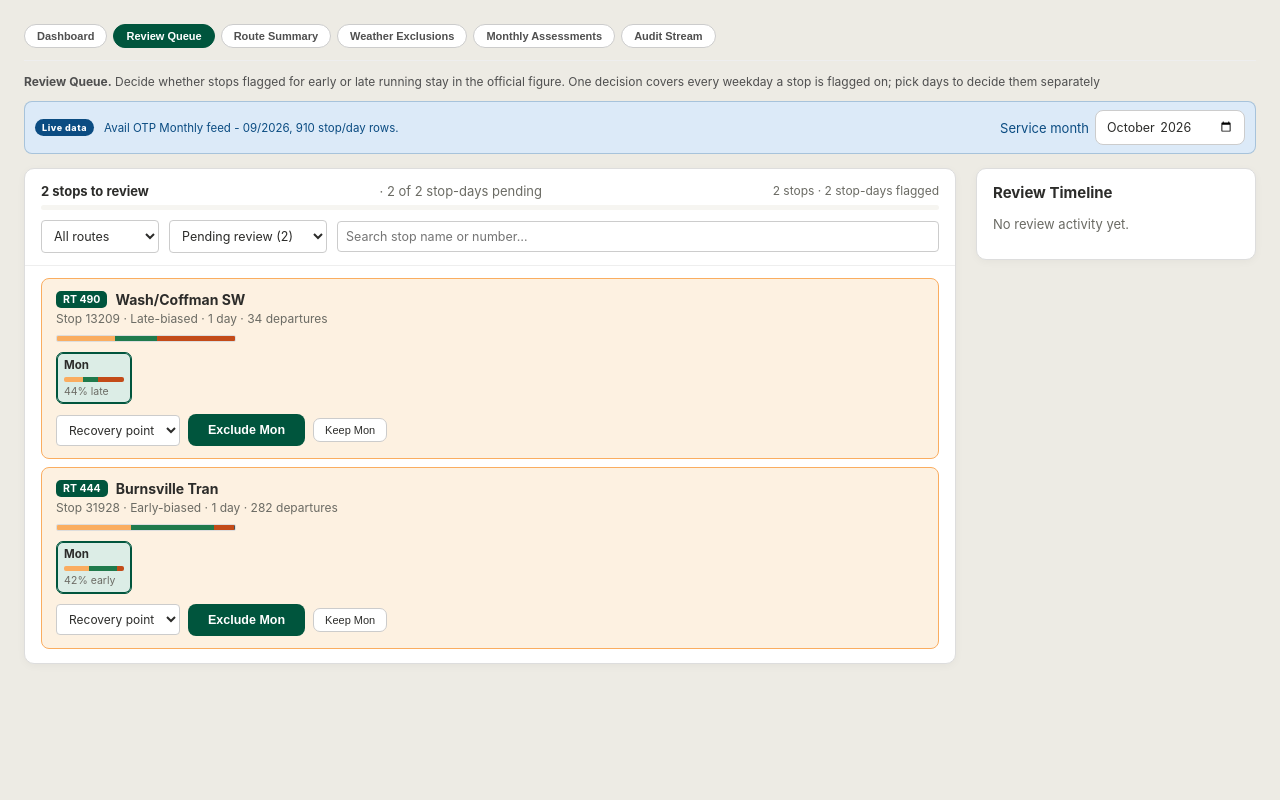
Test case: approving a weather day › re-reads the month, because withdrawing gives the departures back
Click the button "Weather Exclusions": (402, 36) [337,24,467,48]
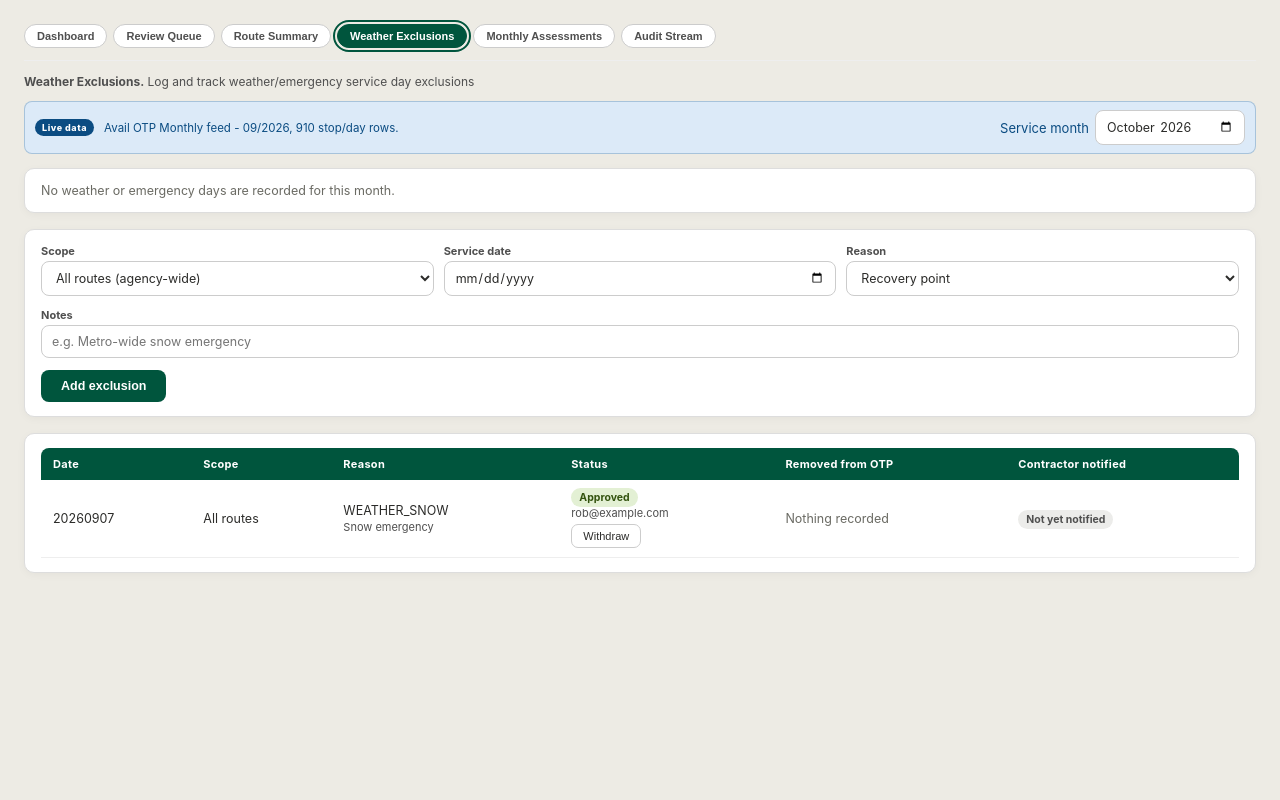
Click the button "Withdraw": (606, 536) [571,524,641,548]
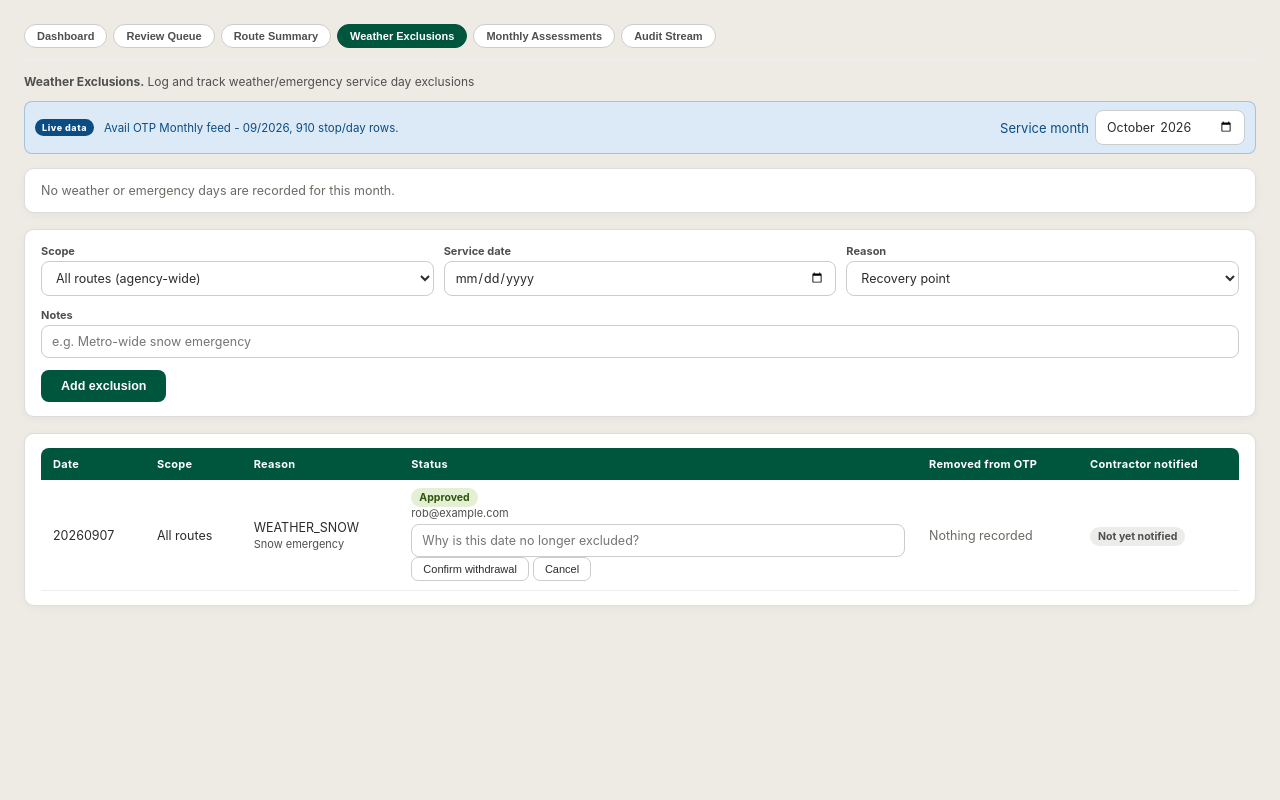
In the field named "Reason for withdrawing": (658, 540) [411,524,905,557], type "Not a weather day"
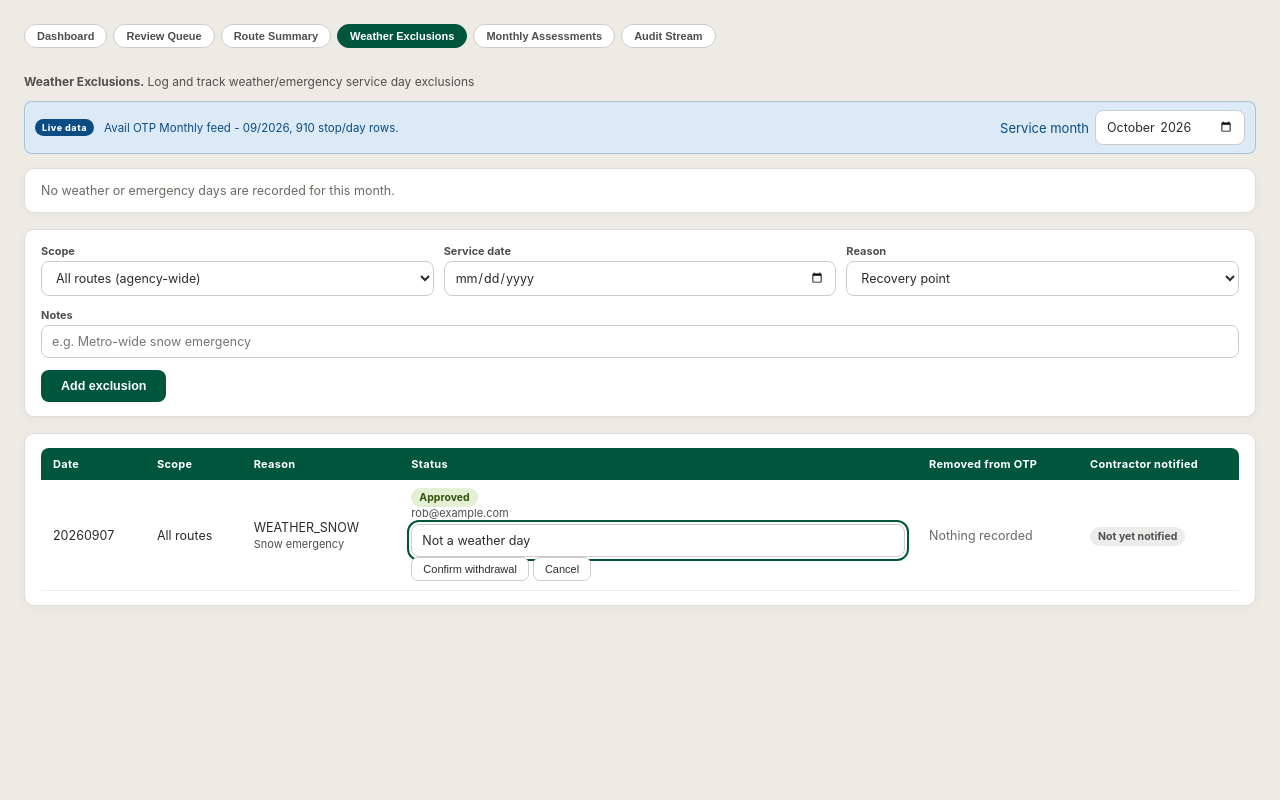
Click the button "Confirm withdrawal": (470, 569) [411,557,529,581]
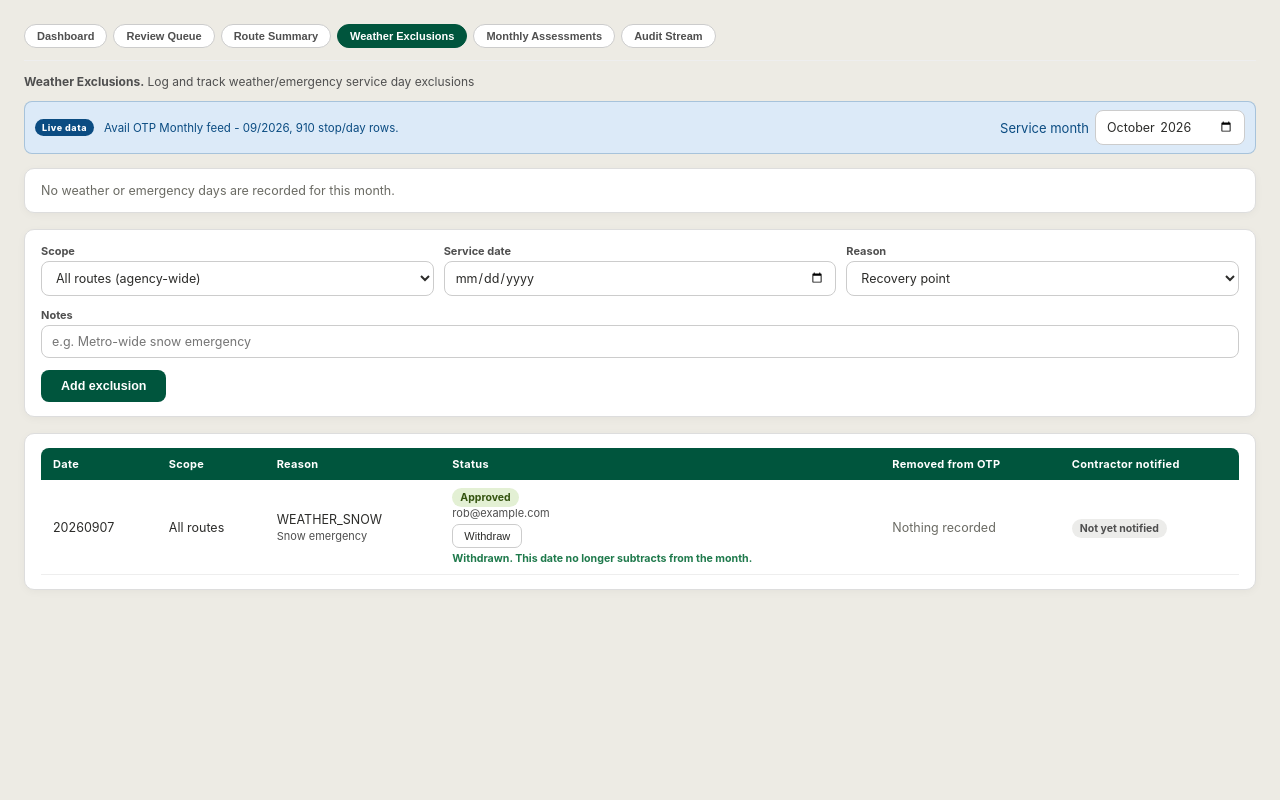
Result: the text "Withdrawn. This date no longer subtracts from the month." is shown at [452,552,752,565]
